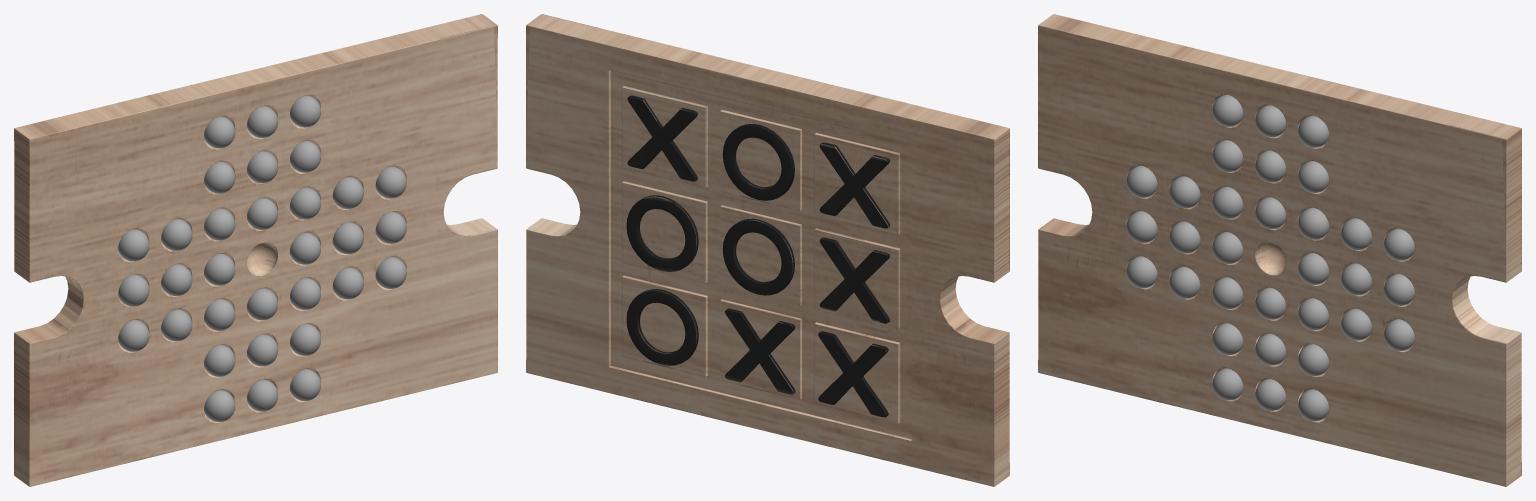
The model's file is gamebox-natural-game.glb.
3 views of the same model, side by side, from view 1: azimuth 30°, elevation 25°; view 2: azimuth 150°, elevation 25°; view 3: azimuth 330°, elevation 25° (orthographic).
Visible parts, largest first — view 1: Cube.008, Sphere.002; view 2: Cube.008; view 3: Cube.008, Sphere.002.
Part boxes in pixels (left/top/right/bottom): Cube.008: left=14, top=14, right=497, bottom=486; Sphere.002: left=118, top=95, right=406, bottom=421; Cube.008: left=526, top=14, right=1009, bottom=486; Cube.008: left=1038, top=14, right=1521, bottom=486; Sphere.002: left=1126, top=94, right=1415, bottom=421.
Bounding box in the file's own units: 3.4 × 2.41 × 0.3251.
Materials: 2 (1 with a texture image).
